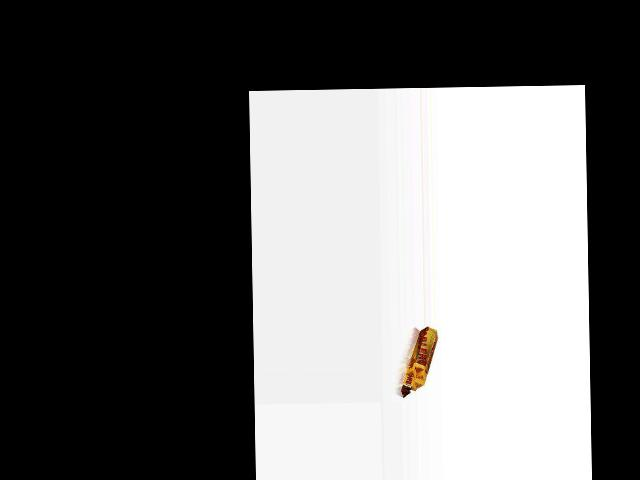chocolate: (396, 327, 440, 398)
